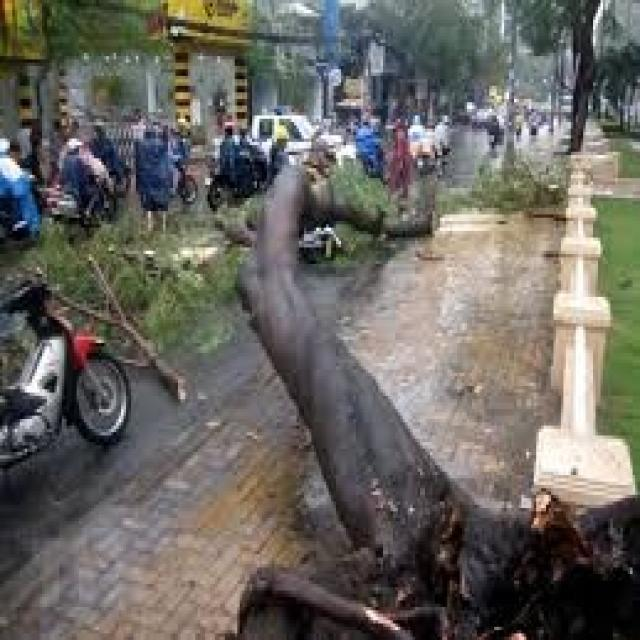fallen_object: (207, 132, 566, 640)
